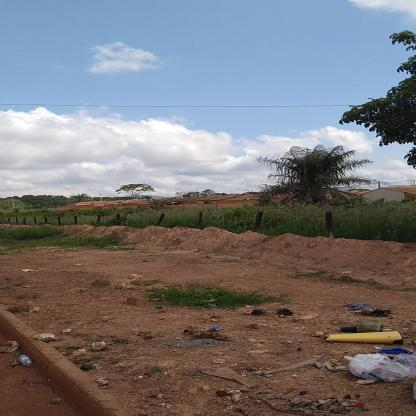lixo: (328, 334, 416, 380)
